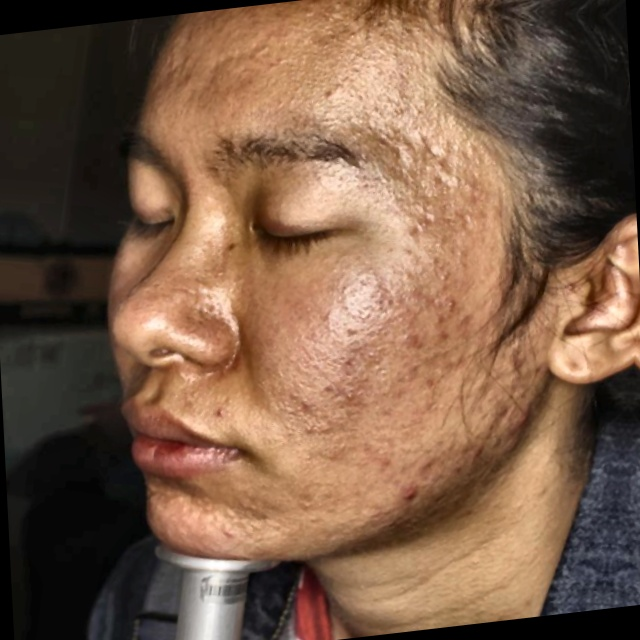comedone: (391, 478, 429, 523), (508, 400, 544, 447), (464, 432, 493, 466)
